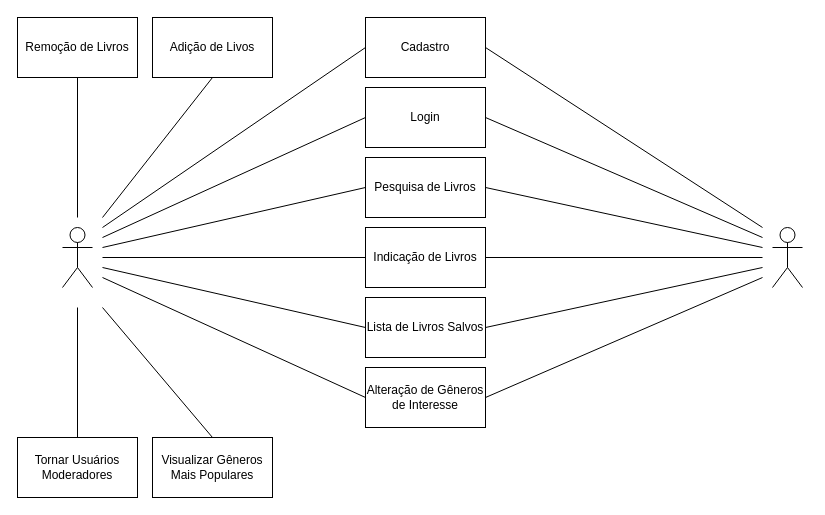
This 825x515 diagram has some shape labels left out. The shapes that lost their labels are listed below. From the top down, each one's centre as x and y in pixels, then its label:
the point at 77,257: Moderador
the point at 787,257: Usuário
